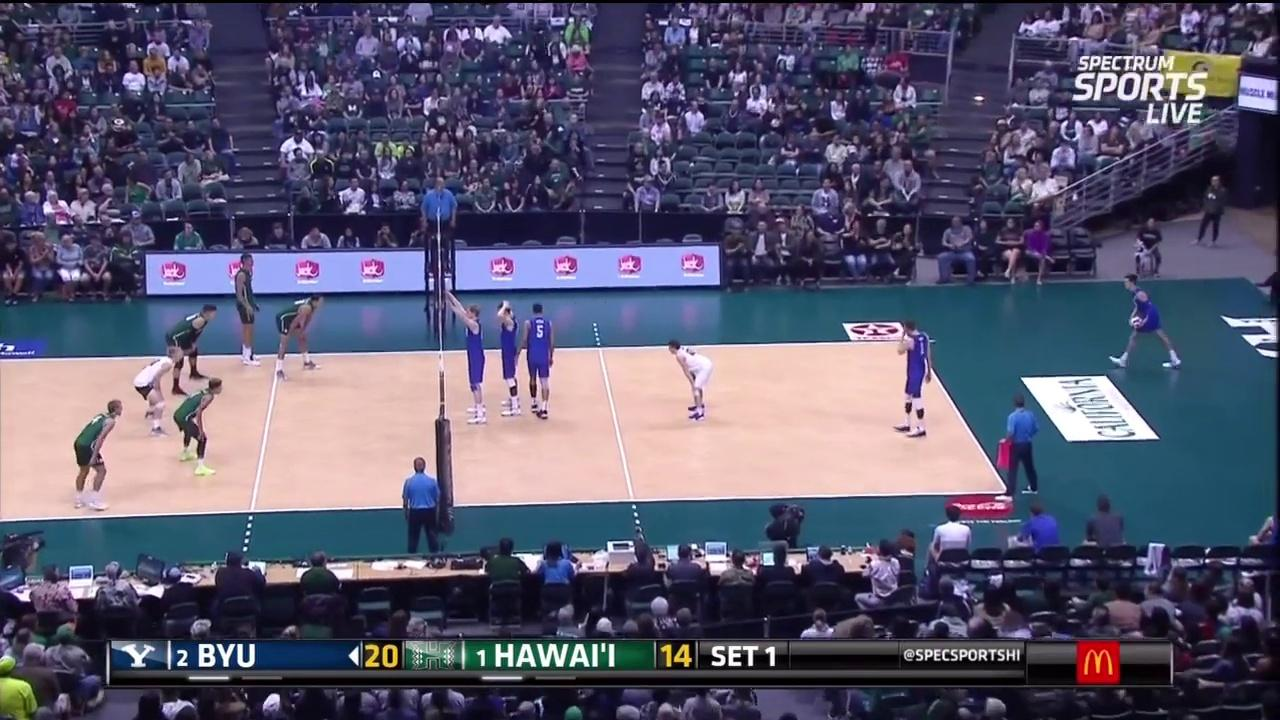player: (1113, 279, 1183, 368), (449, 294, 493, 428), (73, 402, 122, 512), (131, 341, 184, 436), (164, 294, 216, 387), (173, 377, 220, 476), (895, 324, 935, 438), (491, 299, 528, 417), (521, 302, 557, 417), (277, 295, 325, 374), (669, 340, 710, 423), (233, 252, 262, 368)
refree: (398, 456, 445, 556), (999, 391, 1043, 493), (421, 176, 461, 284)
